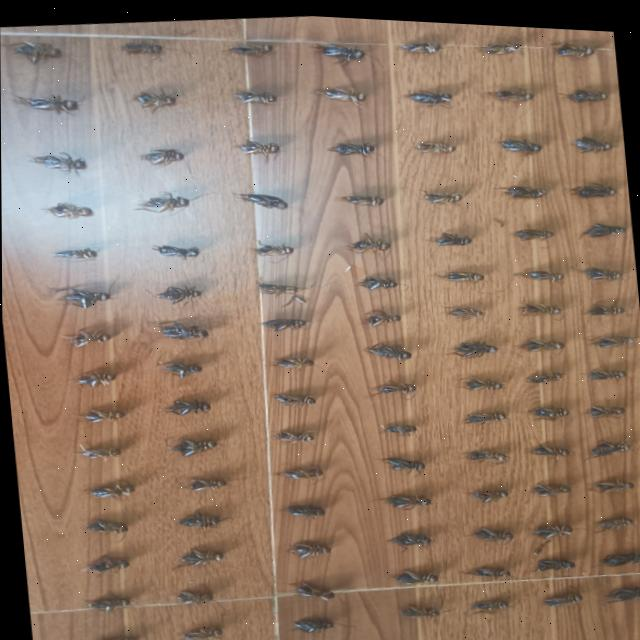no egg: (52, 286, 109, 307), (15, 94, 77, 113), (7, 42, 60, 63), (136, 190, 189, 210), (30, 152, 85, 171), (314, 84, 365, 104), (177, 508, 227, 527), (166, 436, 216, 454), (316, 41, 365, 59), (363, 338, 410, 356), (160, 319, 206, 337), (155, 284, 201, 302), (375, 490, 430, 504), (65, 329, 110, 346), (133, 90, 175, 108), (177, 546, 221, 563), (237, 190, 286, 205), (157, 359, 200, 376), (567, 176, 615, 191), (44, 202, 92, 217), (237, 137, 279, 154), (67, 371, 114, 386), (163, 398, 209, 413), (75, 443, 120, 458), (86, 595, 128, 611), (295, 578, 332, 596), (84, 556, 128, 571), (139, 147, 183, 162), (152, 243, 199, 257), (380, 453, 423, 468), (589, 433, 629, 449), (452, 337, 497, 351), (287, 540, 329, 555), (259, 315, 307, 328), (499, 133, 540, 148), (256, 279, 303, 292), (85, 483, 132, 496), (581, 216, 624, 230), (346, 234, 389, 248), (405, 87, 451, 100), (175, 585, 210, 602), (362, 306, 399, 322), (562, 83, 607, 96), (573, 130, 612, 145), (599, 545, 640, 559), (293, 615, 334, 629), (386, 528, 430, 541), (327, 139, 374, 151), (516, 333, 562, 345), (554, 37, 596, 50), (355, 272, 397, 285), (392, 566, 437, 578), (281, 501, 322, 514), (52, 247, 96, 259), (592, 510, 632, 523), (531, 519, 571, 532), (430, 227, 470, 240), (83, 408, 123, 421), (515, 264, 562, 275), (503, 180, 546, 192), (226, 41, 272, 52), (396, 601, 438, 613), (121, 40, 163, 52), (488, 84, 533, 95), (276, 464, 321, 475), (528, 438, 569, 450), (471, 523, 512, 535), (605, 580, 640, 594), (273, 427, 313, 439), (180, 625, 220, 637), (461, 562, 508, 572), (542, 588, 581, 600), (462, 371, 501, 383), (467, 485, 506, 497), (253, 240, 292, 252), (532, 553, 574, 564), (463, 407, 505, 418), (233, 89, 275, 100), (272, 391, 314, 402), (531, 478, 569, 490), (187, 476, 225, 488), (591, 329, 632, 340), (479, 37, 520, 48), (518, 298, 559, 309), (85, 520, 126, 531), (446, 301, 483, 313), (470, 594, 507, 606), (527, 401, 567, 412), (370, 379, 414, 389), (586, 398, 622, 410), (582, 261, 621, 272), (585, 297, 624, 308), (513, 223, 552, 234), (435, 266, 482, 275), (336, 192, 383, 201), (590, 475, 632, 485), (465, 445, 506, 455), (414, 137, 454, 147), (272, 354, 312, 364), (525, 366, 564, 376), (400, 38, 439, 48), (586, 363, 624, 373), (423, 188, 461, 198), (380, 419, 415, 429), (95, 636, 137, 640)
